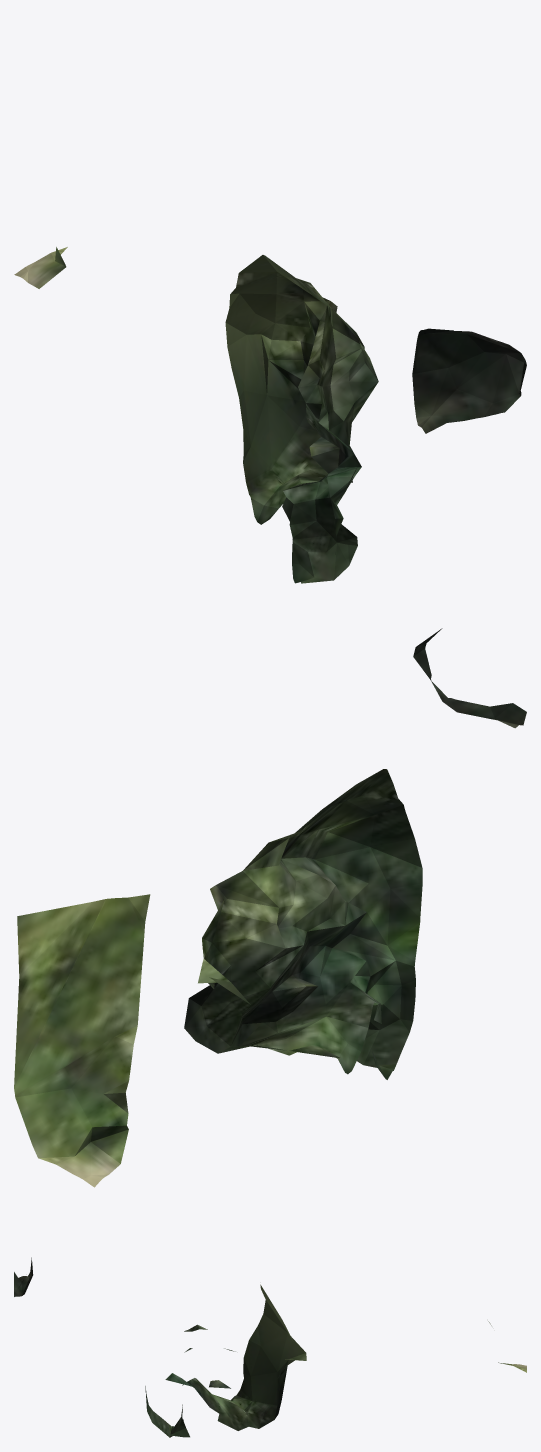
3 views of the same model, one above another, from view 1: azimuth 30°, elevation 25°; view 2: azimuth 150°, elevation 25°; view 3: azimuth 270°, elevation 25° (orthographic). The views are drawn at different scales.
Bounding box in the file's own units: 4.18 × 11.98 × 26.11.
1 material, 1 textured.
